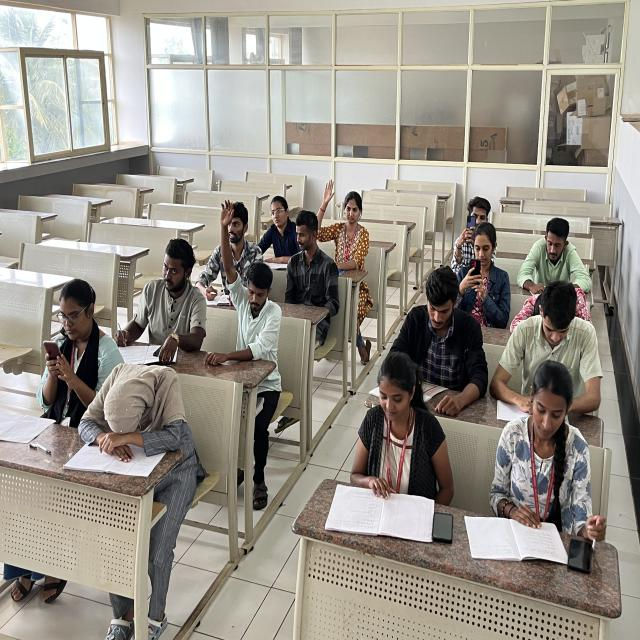Hand Rising: (209, 194, 283, 368), (314, 175, 377, 277)
Reading: (487, 357, 601, 563), (337, 351, 449, 548), (516, 217, 590, 298), (254, 192, 298, 274)
Sleeping: (75, 355, 193, 483), (514, 280, 595, 324)
Using Phone: (34, 274, 112, 440), (457, 219, 515, 323), (453, 192, 489, 256)
Writing: (377, 255, 491, 411), (114, 236, 208, 359), (201, 200, 248, 312)
